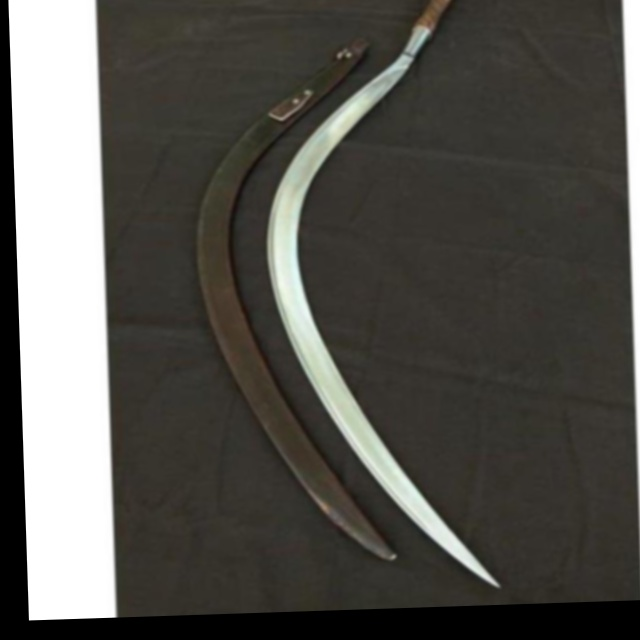Sharp-Object: (256, 0, 522, 597)
